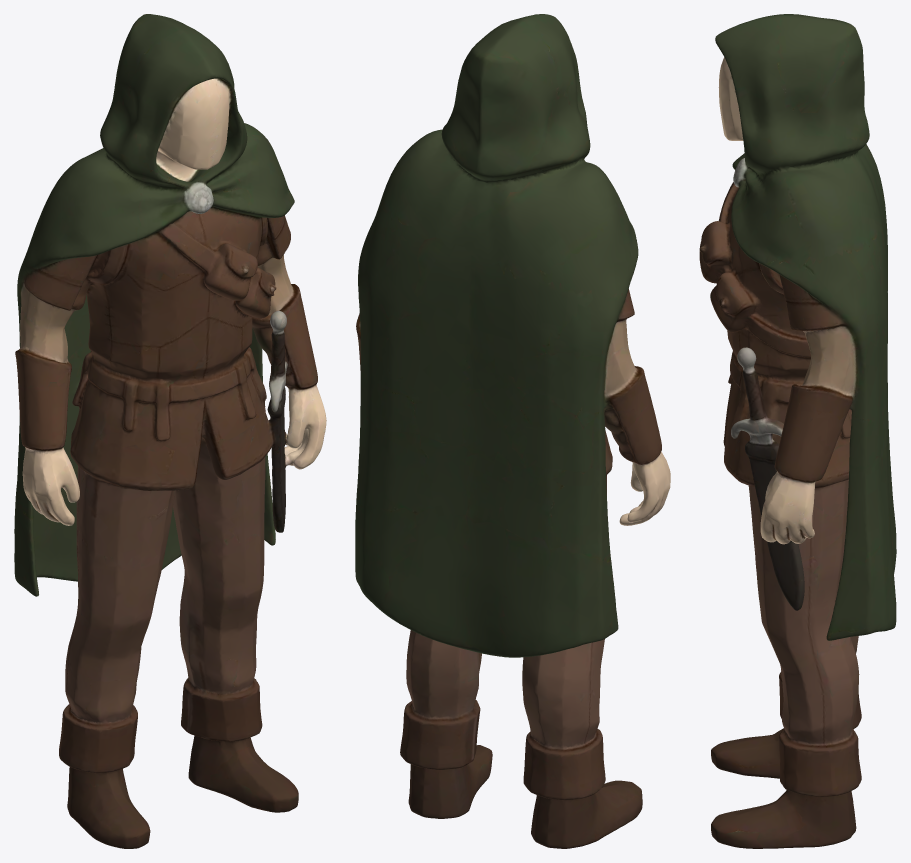
File: scout.glb
The picture shows the model from 3 angles, left to right: view 1: azimuth 30°, elevation 25°; view 2: azimuth 150°, elevation 25°; view 3: azimuth 270°, elevation 25°; orthographic projection.
Bounding box in the file's own units: 0.7416 × 1.9 × 0.4303.
1 material, 1 textured.
